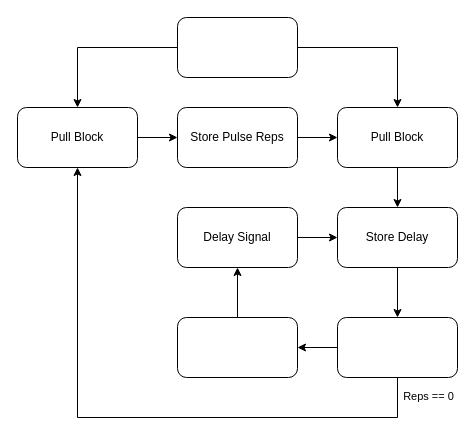
Image size: 475x443. Some labels were removed from this diagram. The centre of each missing label's shape, as x and y in pixels:
"10 Cycle Pulse" belongs at point (237, 347).
"Check Reps and Decrement" belongs at point (397, 347).
"DMA" belongs at point (237, 47).
